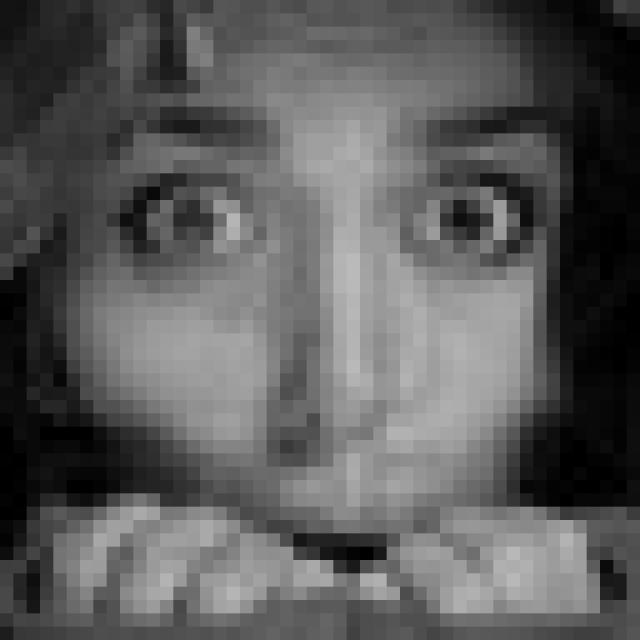fear: (107, 91, 576, 640)
